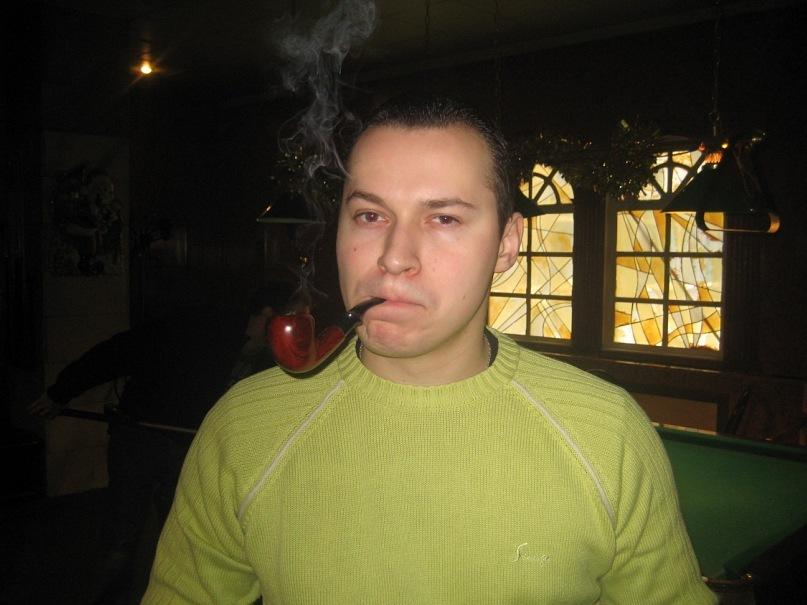trubka: (268, 298, 382, 374)
